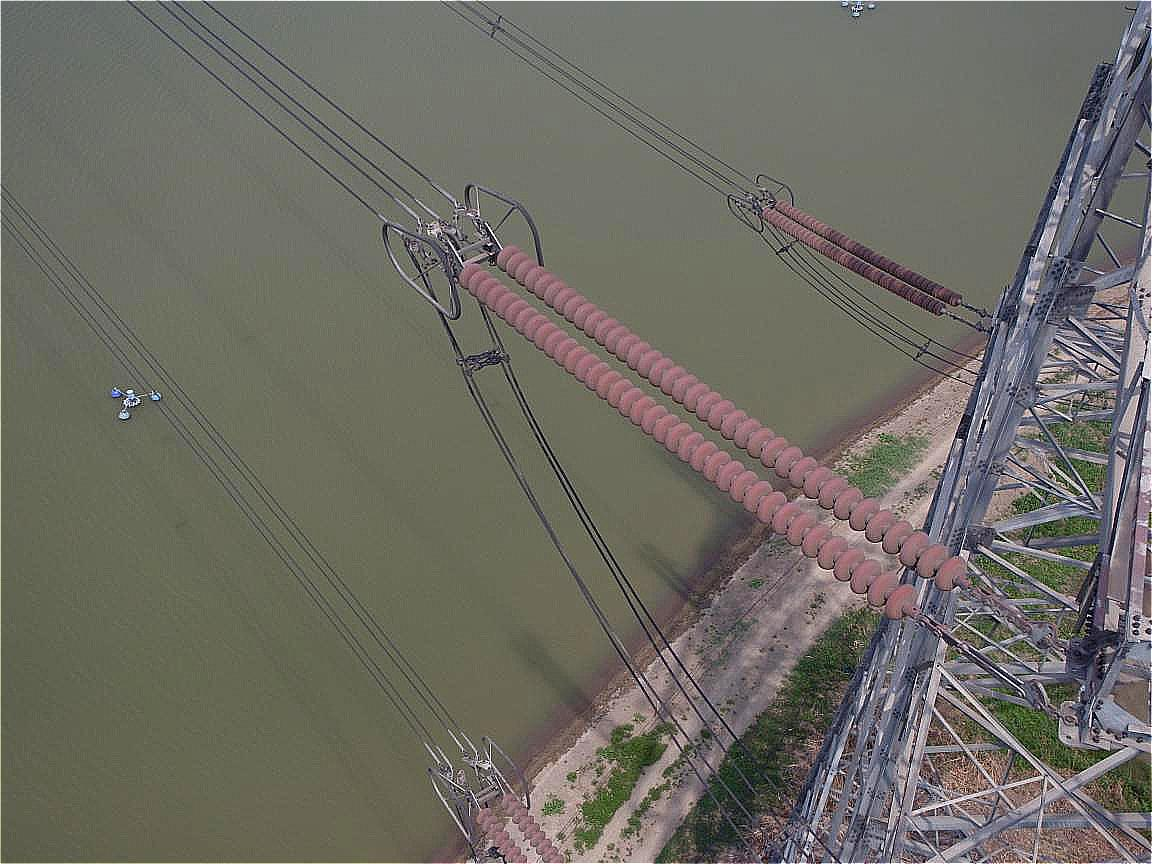insultor1: (436, 221, 972, 627), (761, 187, 982, 323)
